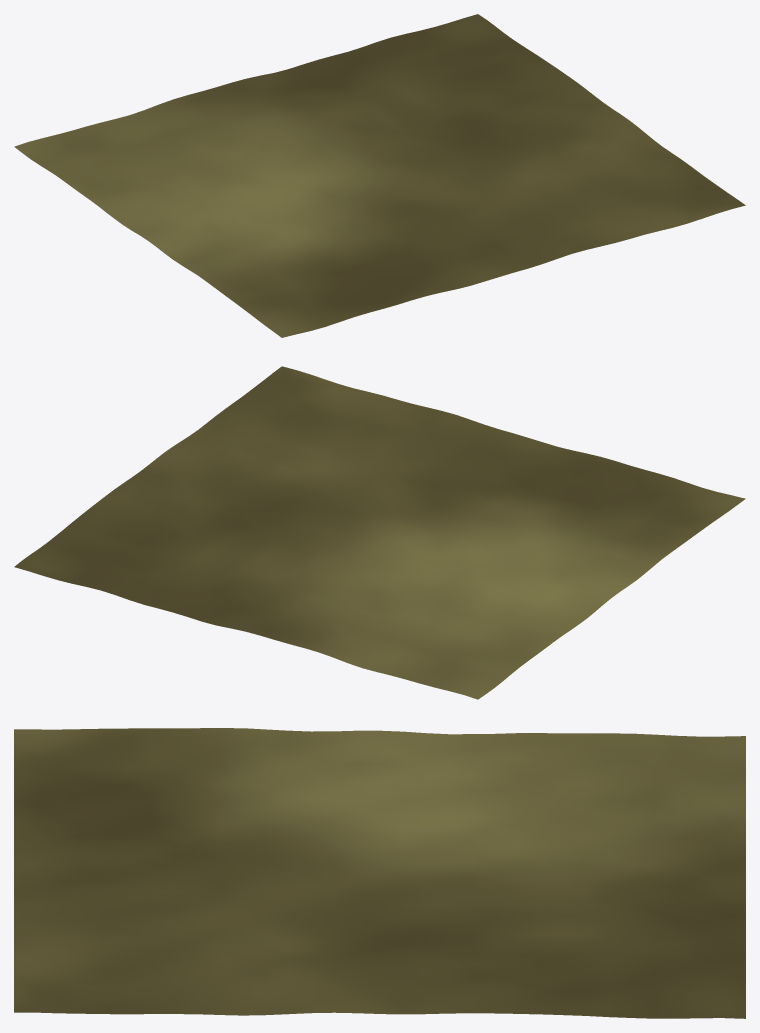
The model's file is terrain_lod0_-6_0.obj.
3 renders of one model, top to bottom at view 1: azimuth 30°, elevation 25°; view 2: azimuth 150°, elevation 25°; view 3: azimuth 270°, elevation 25°, orthographic. The views are drawn at different scales.
Visible parts, largest first — view 1: terrain_lod0_-6_0; view 2: terrain_lod0_-6_0; view 3: terrain_lod0_-6_0.
Part boxes in pixels (<box>): terrain_lod0_-6_0: <box>14,14,745,337</box>; terrain_lod0_-6_0: <box>14,366,745,699</box>; terrain_lod0_-6_0: <box>14,728,745,1018</box>.
Size of the model in its own units: 128 by 6.46 by 128.
